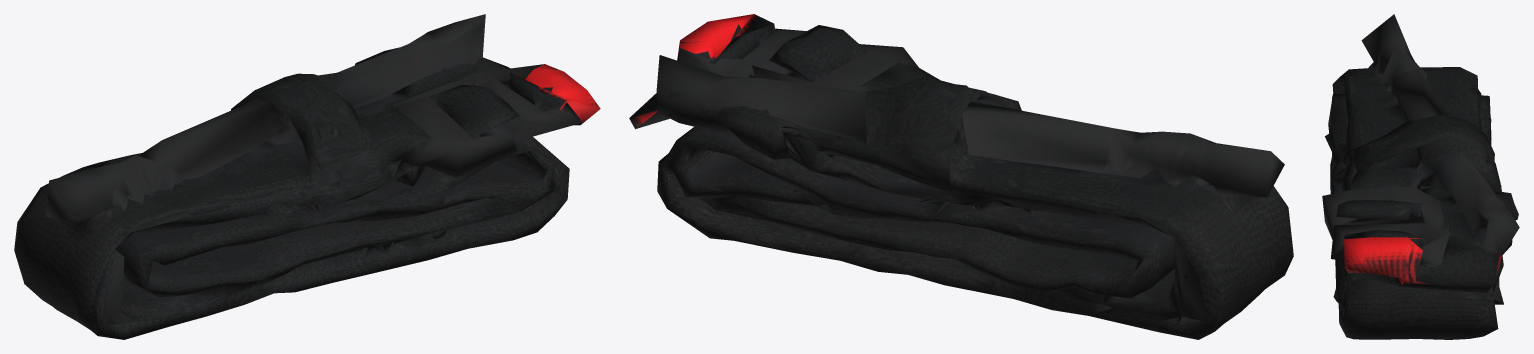
Rendered from tourniquet.glb.
The picture shows the model from 3 angles, left to right: view 1: azimuth 30°, elevation 25°; view 2: azimuth 150°, elevation 25°; view 3: azimuth 270°, elevation 25°; orthographic projection. The views are drawn at different scales.
Visible parts, largest first — view 1: Mesh_0; view 2: Mesh_0; view 3: Mesh_0.
Boxes of the visible parts, box(x1,y1,x2,y2) form: Mesh_0: box(14, 14, 600, 339); Mesh_0: box(629, 14, 1293, 339); Mesh_0: box(1322, 14, 1519, 339).
Size of the model in its own units: 0.16 by 0.0465 by 0.0594.
Materials: 1 (1 with a texture image).
